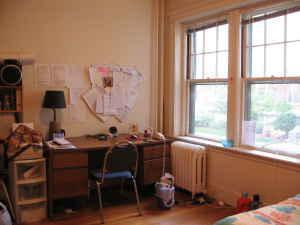Cama: (214, 185, 299, 223)
Otro Obstaculo: (172, 142, 208, 200), (153, 172, 178, 209)
Ventana: (242, 15, 297, 158), (184, 26, 227, 144)
